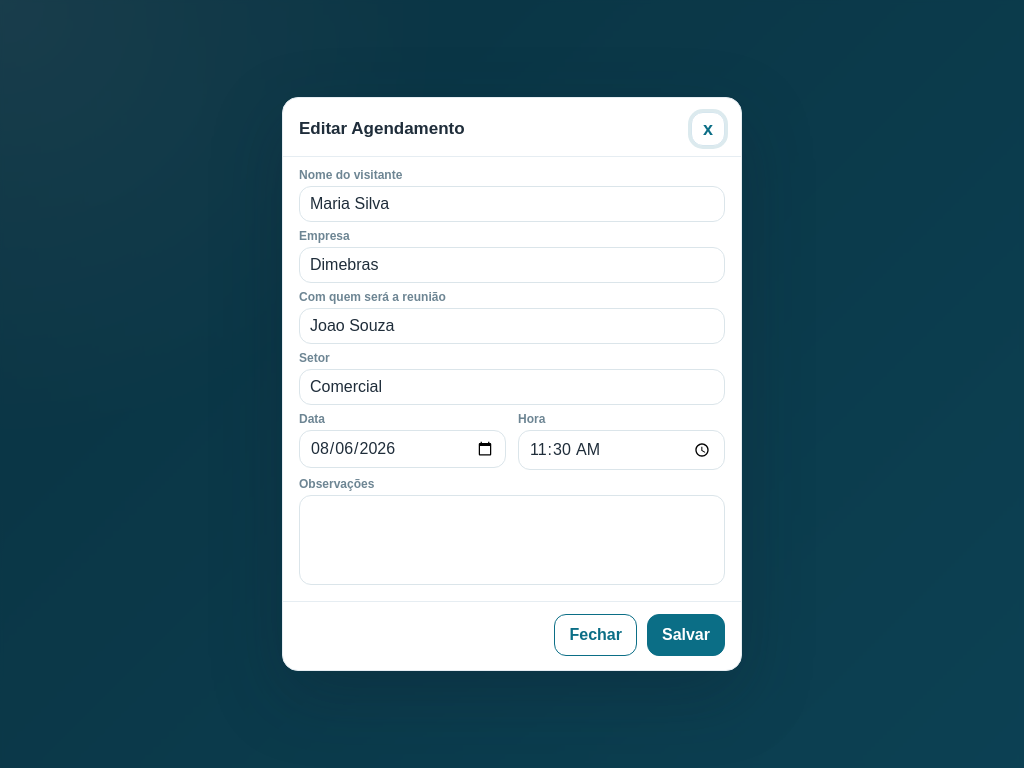
Test: AgendaModal mensagens e validações › atualiza agendamento com sucesso
This screenshot has width=1024, height=768.
Replace the text in the field labelled "Setor" with "Financeiro" at (512, 387), box [299,369,725,405]
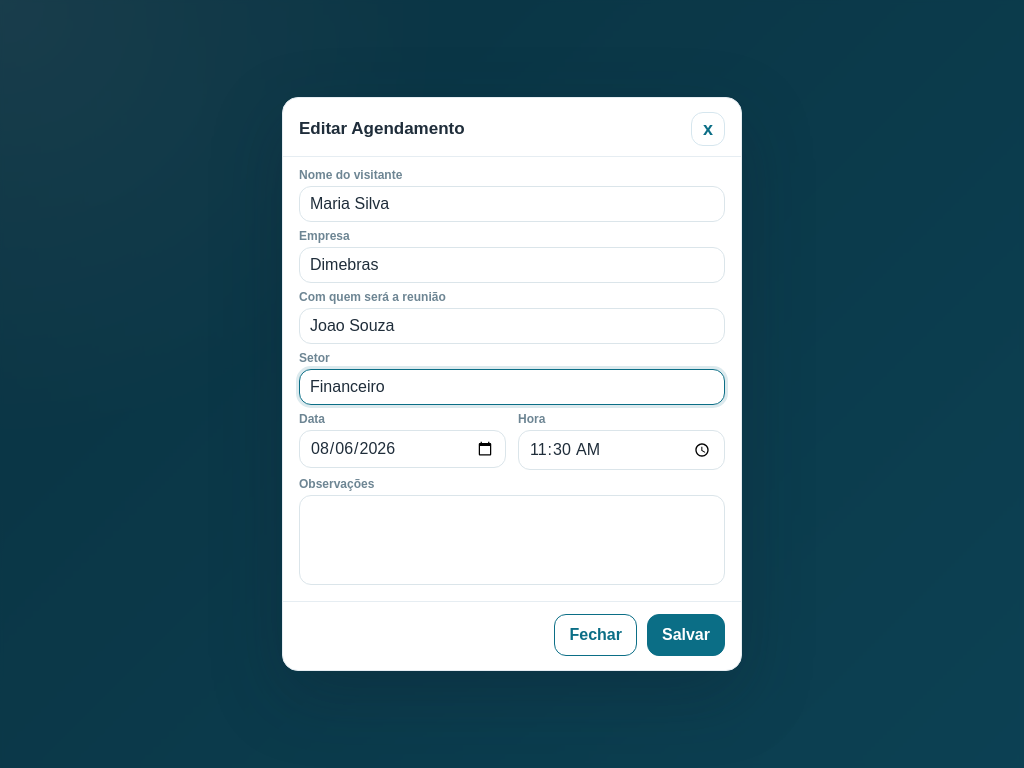
Click the button "Salvar" at (686, 635), box [647,614,725,656]
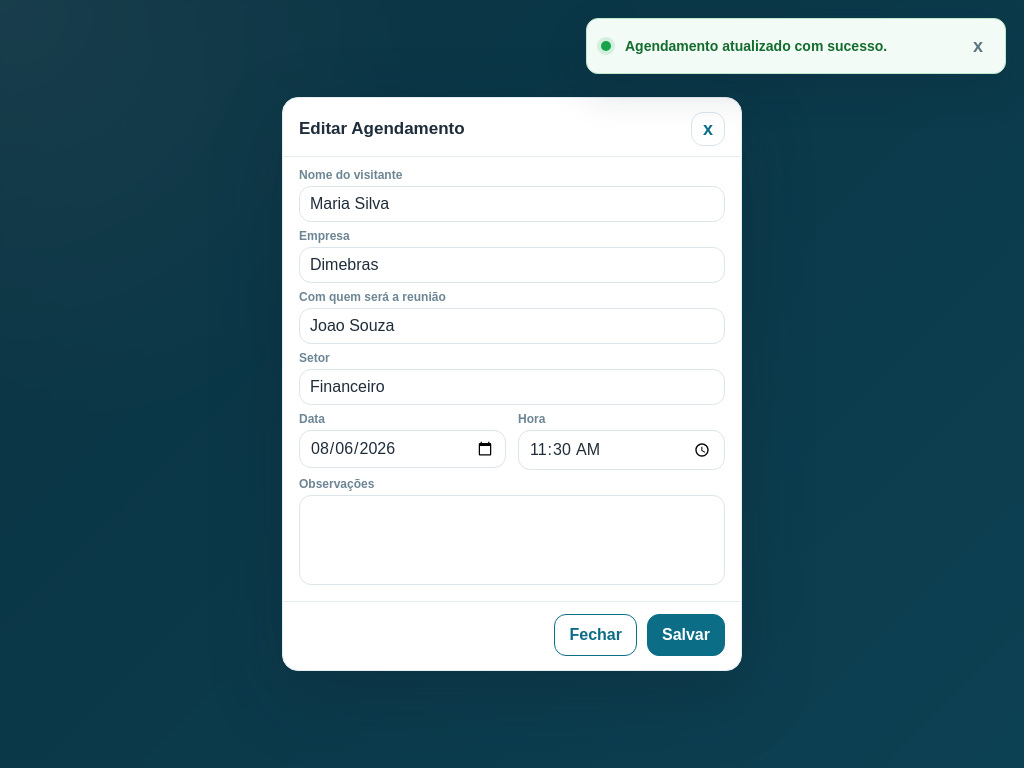
Result: the text "Agendamento atualizado com sucesso." is shown at [625,38,887,54]
